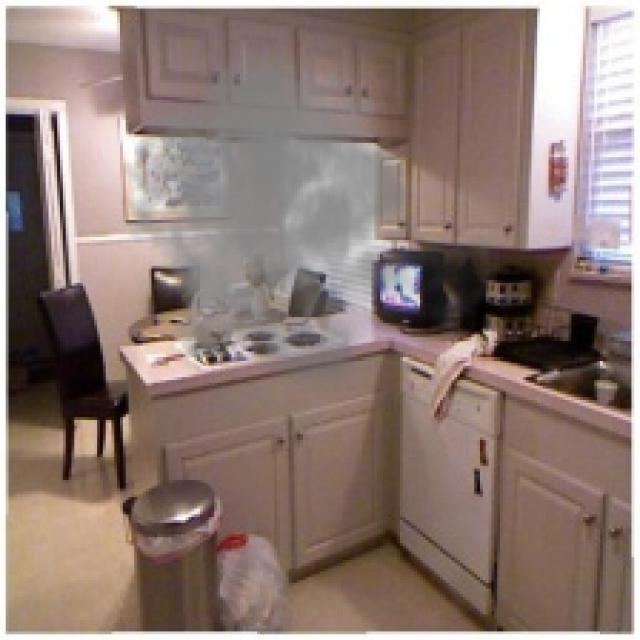smoke: (120, 34, 509, 403)
